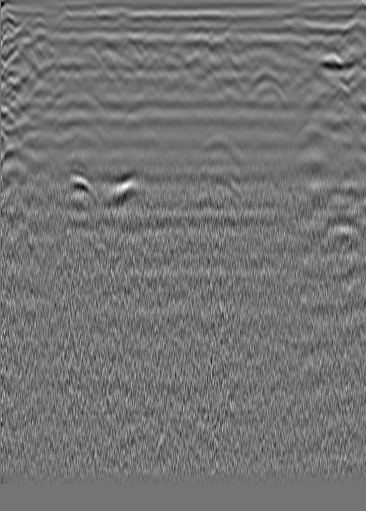가스: (108, 164, 162, 207)
상수: (319, 52, 339, 72)
우수: (187, 49, 207, 69)
